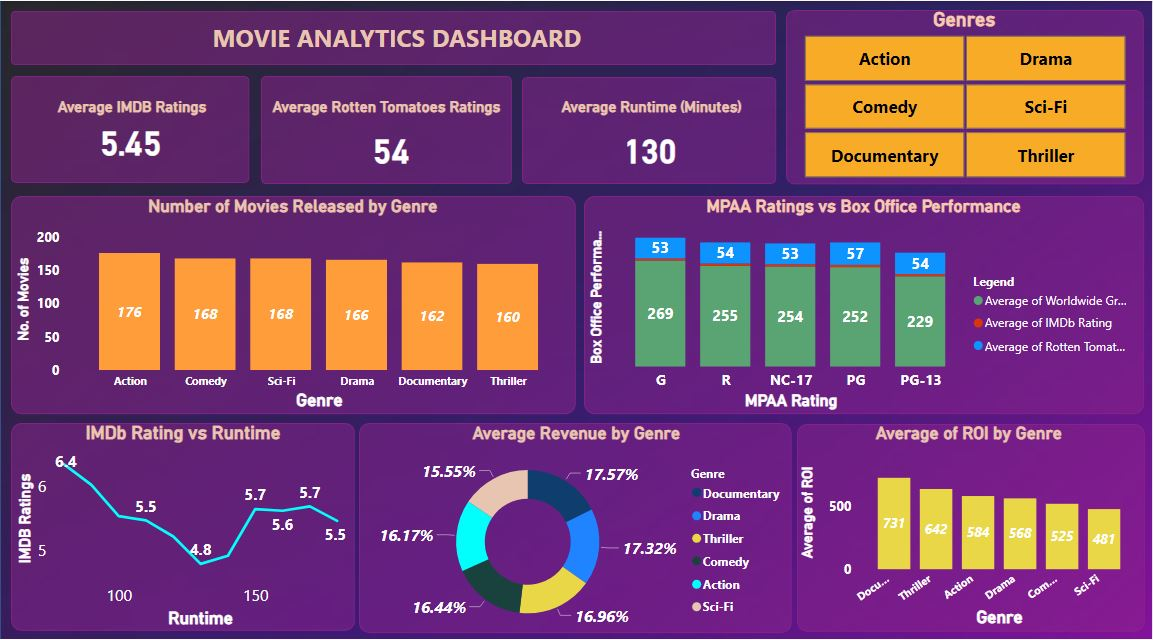

The dashboard page shown, as its layout file describes it:
{"tool":"powerbi","page":{"name":"Movie Analytics Dashboard","canvas":[1280,720],"ordinal":1},"visuals":[{"type":"shape","box":[885,479.4,386.5,230.8],"z":0},{"type":"shape","box":[12.5,20,850,60],"z":1000},{"type":"textbox","box":[12.5,18.8,850,61.2],"z":2000},{"type":"shape","box":[290,92.5,278.8,120],"z":3000},{"type":"card","fields":{"Values":["Avg(Movie_Details_Analysis.Rotten Tomatoes Rating (%))"]},"box":[383.8,146.2,101.2,52.5],"z":4000},{"type":"textbox","box":[290,106.2,278.8,47.5],"z":5000},{"type":"shape","box":[12.5,92.5,265,118.8],"z":6000},{"type":"card","fields":{"Values":["Avg(Movie_Details_Analysis.IMDb Rating)"]},"box":[101.2,130,87.5,68.8],"z":7000},{"type":"textbox","box":[31.2,106.2,231.2,47.5],"z":8000},{"type":"shape","box":[580,93.8,282.5,118.8],"z":9000},{"type":"card","fields":{"Values":["Avg(Movie_Details_Analysis.Runtime (Minutes))"]},"box":[667.5,147.5,108.8,51.2],"z":10000},{"type":"textbox","box":[595,106.2,256.2,48.8],"z":11000},{"type":"shape","box":[12.3,478,382.4,230.8],"z":12000},{"type":"lineChart","title":"IMDb Rating vs Runtime","fields":{"Category":["Movie_Details_Analysis.Runtime (Bins)"],"Y":["Avg(Movie_Details_Analysis.IMDb Rating)"]},"box":[12.3,476.7,382.4,233.5],"z":13000},{"type":"shape","box":[398.8,478,480.8,233.5],"z":14000},{"type":"shape","box":[12.5,225,627.5,242.5],"z":15000},{"type":"shape","box":[648.8,225,622.5,242.5],"z":16000},{"type":"columnChart","title":"MPAA Ratings vs Box Office Performance","fields":{"Category":["Movie_Details_Analysis.MPAA Rating"],"Y":["Avg(Movie_Details_Analysis.Worldwide Gross (Millions))","Avg(Movie_Details_Analysis.IMDb Rating)","Avg(Movie_Details_Analysis.Rotten Tomatoes Rating (%))"]},"box":[648.8,225,621.2,242.5],"z":17000},{"type":"shape","box":[873.8,18.8,397.5,193.8],"z":18000},{"type":"slicer","title":"Genres","fields":{"Values":["Movie_Details_Analysis.Genre"]},"box":[873.8,16.2,396.2,195],"z":19000},{"type":"clusteredColumnChart","fields":{"Category":["Movie_Details_Analysis.Genre"],"Y":["Sum(Movie_Details_Analysis.Number of Movies Released)"]},"box":[12.5,225,626.2,242.5],"z":20000},{"type":"clusteredColumnChart","fields":{"Category":["Movie_Details_Analysis.Genre"],"Y":["Avg(Movie_Details_Analysis.ROI)"]},"box":[883.7,478,386.5,230.8],"z":21000},{"type":"donutChart","fields":{"Category":["Movie_Details_Analysis.Genre"],"Y":["AvgRatingsByLanguage.Average Revenue"]},"box":[400.2,478,480.8,241.7],"z":22000}]}

Visuals, with their boxes in screenshot pixels (x1, y1, x2, y2), scaled from the page's 1280x720 canvas onto the 1153x640 screenshot:
shape: box(797, 426, 1145, 631)
shape: box(11, 18, 777, 71)
textbox: box(11, 17, 777, 71)
shape: box(261, 82, 512, 189)
card - Avg(Movie_Details_Analysis.Rotten Tomatoes Rating (%)): box(346, 130, 437, 177)
textbox: box(261, 94, 512, 137)
shape: box(11, 82, 250, 188)
card - Avg(Movie_Details_Analysis.IMDb Rating): box(91, 116, 170, 177)
textbox: box(28, 94, 236, 137)
shape: box(522, 83, 777, 189)
card - Avg(Movie_Details_Analysis.Runtime (Minutes)): box(601, 131, 699, 177)
textbox: box(536, 94, 767, 138)
shape: box(11, 425, 356, 630)
"IMDb Rating vs Runtime" lineChart: box(11, 424, 356, 631)
shape: box(359, 425, 792, 632)
shape: box(11, 200, 576, 416)
shape: box(584, 200, 1145, 416)
"MPAA Ratings vs Box Office Performance" columnChart: box(584, 200, 1144, 416)
shape: box(787, 17, 1145, 189)
"Genres" slicer: box(787, 14, 1144, 188)
clusteredColumnChart - Movie_Details_Analysis.Genre x Sum(Movie_Details_Analysis.Number of Movies Released): box(11, 200, 575, 416)
clusteredColumnChart - Movie_Details_Analysis.Genre x Avg(Movie_Details_Analysis.ROI): box(796, 425, 1144, 630)
donutChart - Movie_Details_Analysis.Genre x AvgRatingsByLanguage.Average Revenue: box(360, 425, 794, 639)
